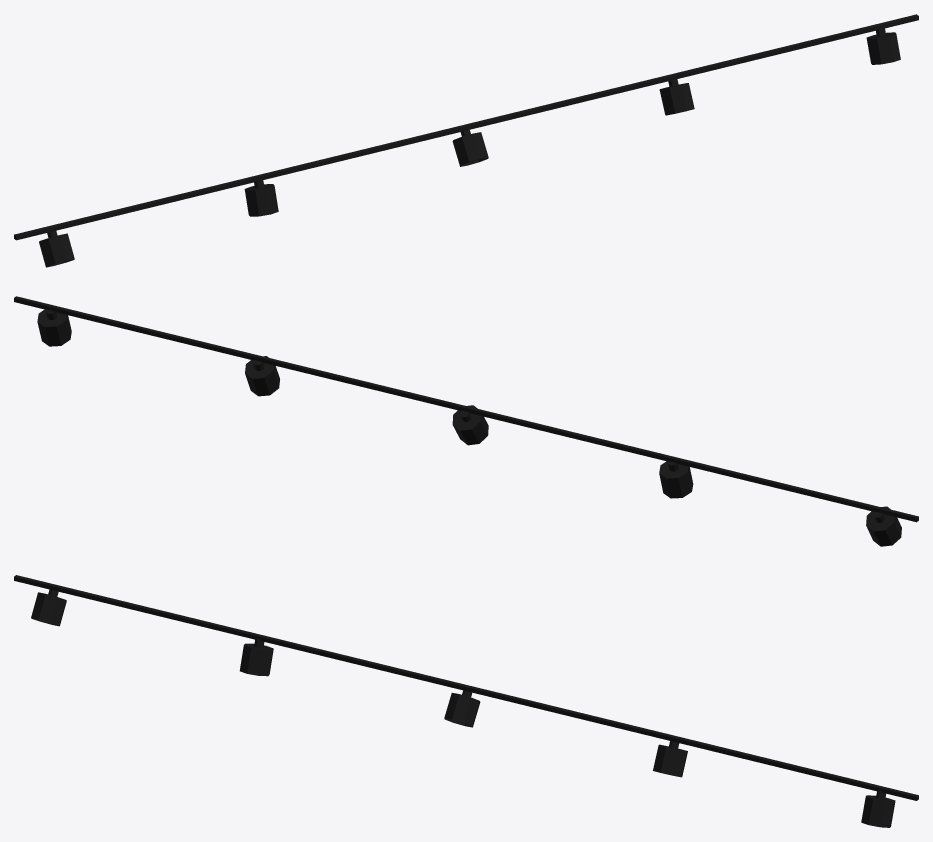
The model's file is cnlounge_lamp3.fbx.
The picture shows the model from 3 angles, top to bottom: view 1: azimuth 30°, elevation 25°; view 2: azimuth 150°, elevation 25°; view 3: azimuth 330°, elevation 25°; orthographic projection.
Visible parts, largest first — view 1: cnlounge_lamp3; view 2: cnlounge_lamp3; view 3: cnlounge_lamp3.
Part boxes in pixels (x1,y1,x2,y2): cnlounge_lamp3: (14,14,918,267); cnlounge_lamp3: (14,296,918,546); cnlounge_lamp3: (14,575,918,827).
Bounding box in the file's own units: 0.0436 × 0.00181 × 0.0018.
Materials: 1 (1 with a texture image).
